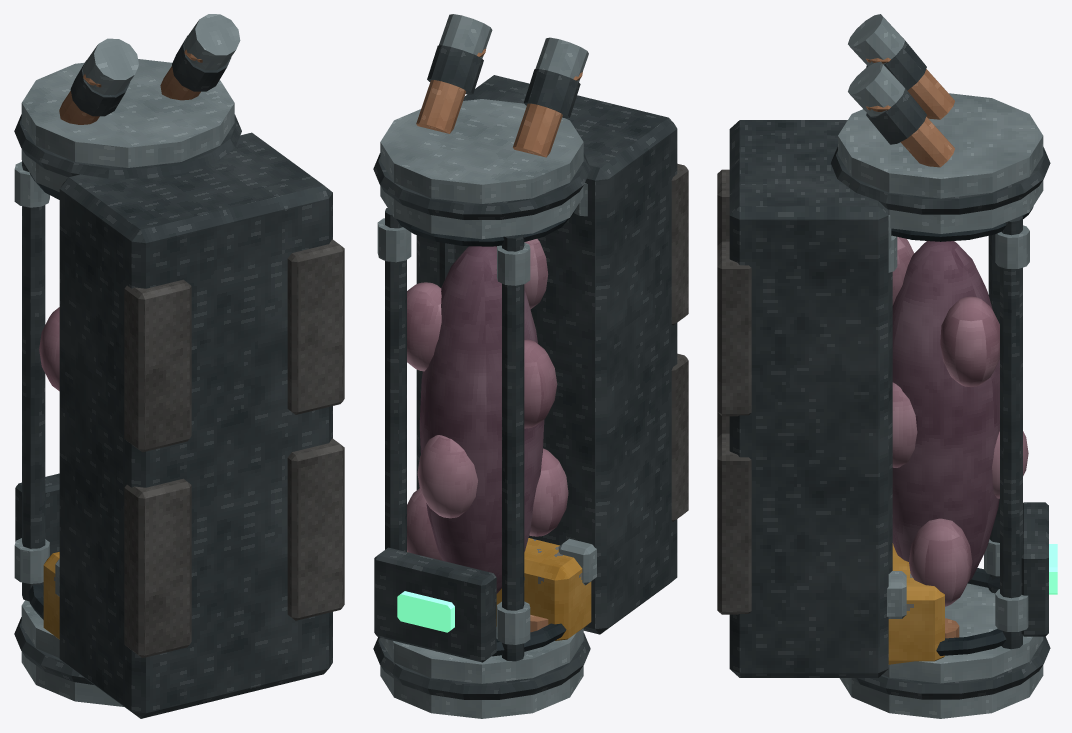
File: culture_reservoir_restorative.glb
3 renders of one model, left to right at view 1: azimuth 30°, elevation 25°; view 2: azimuth 150°, elevation 25°; view 3: azimuth 270°, elevation 25°, orthographic. The views are drawn at different scales.
Visible parts, largest first — view 1: culture_reservoir_restorative; view 2: culture_reservoir_restorative; view 3: culture_reservoir_restorative.
Part boxes in pixels (left/top/right/bottom): culture_reservoir_restorative: left=14, top=14, right=344, bottom=718; culture_reservoir_restorative: left=373, top=14, right=688, bottom=718; culture_reservoir_restorative: left=717, top=14, right=1057, bottom=718.
Size of the model in its own units: 0.159 by 0.4843 by 0.2355.
Materials: 10 (9 with a texture image).
